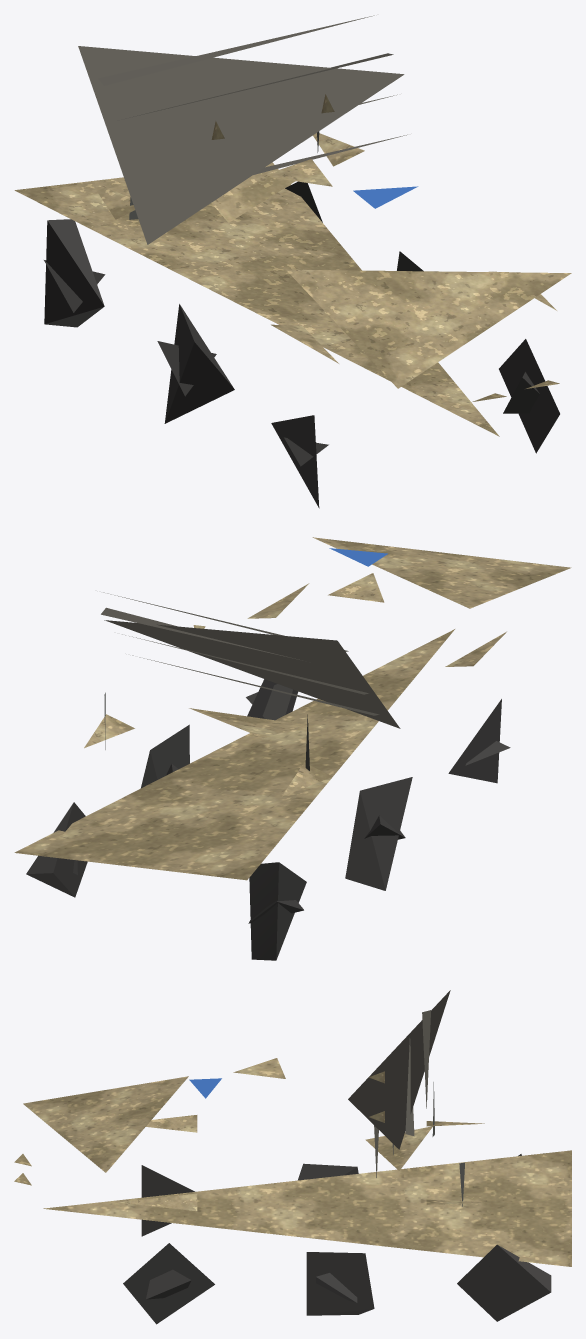
The model's file is rad_e4_us_counterbty_LOD2.glb.
3 renders of one model, top to bottom at view 1: azimuth 30°, elevation 25°; view 2: azimuth 150°, elevation 25°; view 3: azimuth 270°, elevation 25°, orthographic. The views are drawn at different scales.
Parts seen in each view (by area): view 1: rad_e4_us_counterbty_LOD2_body, rad_e4_us_counterbty_LOD2_deck, rad_e4_us_counterbty_LOD2_track, rad_e4_us_counterbty_LOD2_team; view 2: rad_e4_us_counterbty_LOD2_body, rad_e4_us_counterbty_LOD2_track, rad_e4_us_counterbty_LOD2_deck; view 3: rad_e4_us_counterbty_LOD2_body, rad_e4_us_counterbty_LOD2_track, rad_e4_us_counterbty_LOD2_deck.
Boxes of the visible parts, box(x1,y1,x2,y2) form: rad_e4_us_counterbty_LOD2_body: box(14, 94, 571, 436); rad_e4_us_counterbty_LOD2_deck: box(78, 15, 407, 244); rad_e4_us_counterbty_LOD2_track: box(44, 181, 559, 508); rad_e4_us_counterbty_LOD2_team: box(353, 186, 418, 208); rad_e4_us_counterbty_LOD2_body: box(14, 537, 571, 880); rad_e4_us_counterbty_LOD2_track: box(26, 679, 510, 960); rad_e4_us_counterbty_LOD2_deck: box(101, 592, 400, 728); rad_e4_us_counterbty_LOD2_body: box(14, 1058, 571, 1266); rad_e4_us_counterbty_LOD2_track: box(123, 1154, 551, 1324); rad_e4_us_counterbty_LOD2_deck: box(348, 990, 450, 1177).
Size of the model in its own units: 3.3 by 3.58 by 7.37.
Materials: 5 (1 with a texture image).
